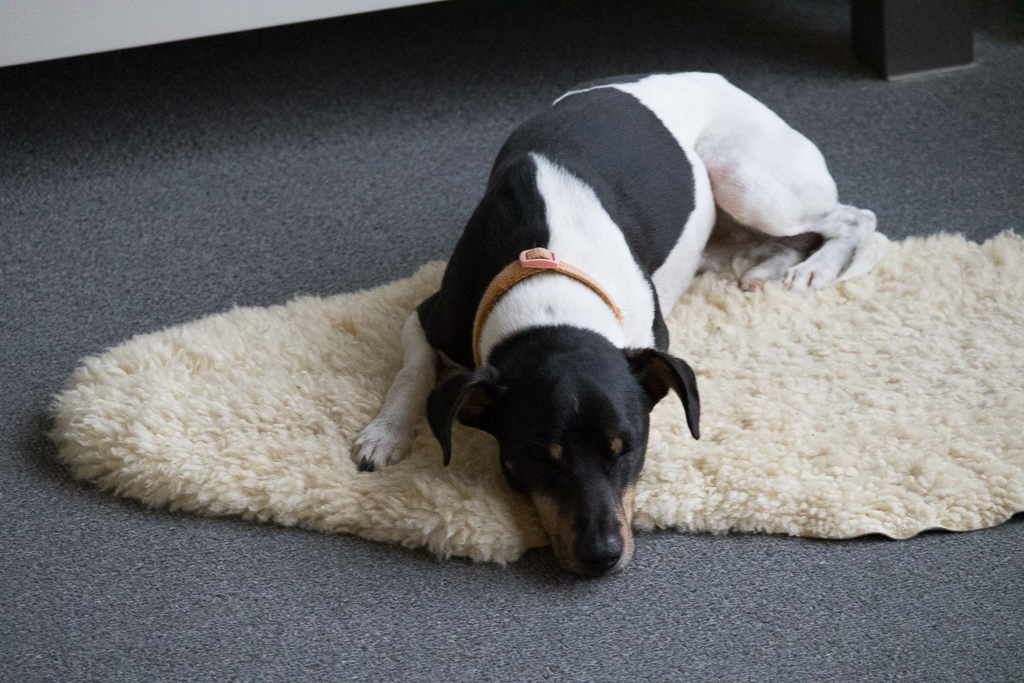Dog: (339, 56, 899, 587)
